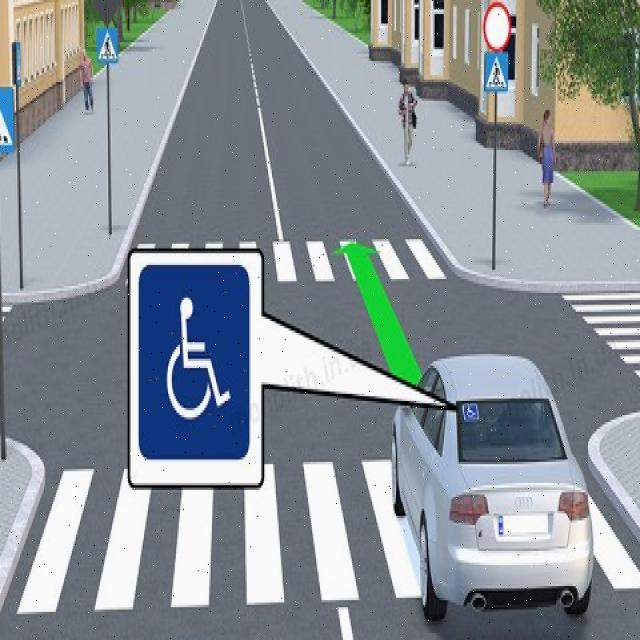symbol_of_access: (136, 260, 252, 463)
